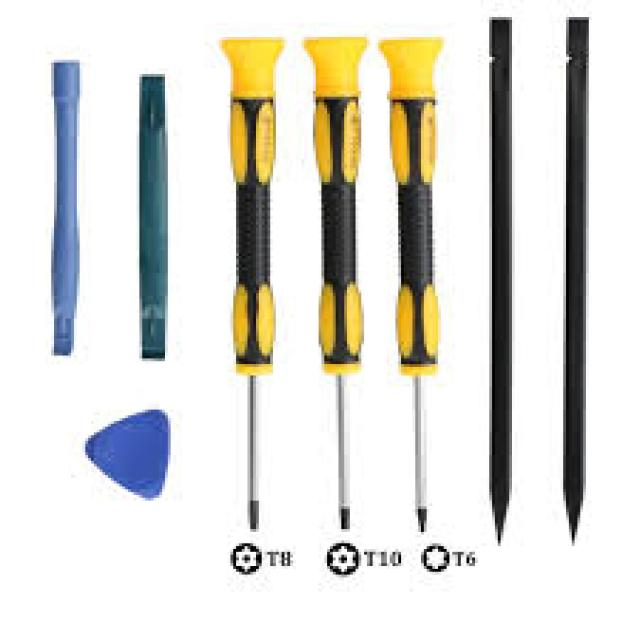screw driver: (293, 36, 387, 538), (375, 26, 463, 539), (214, 34, 294, 546)
